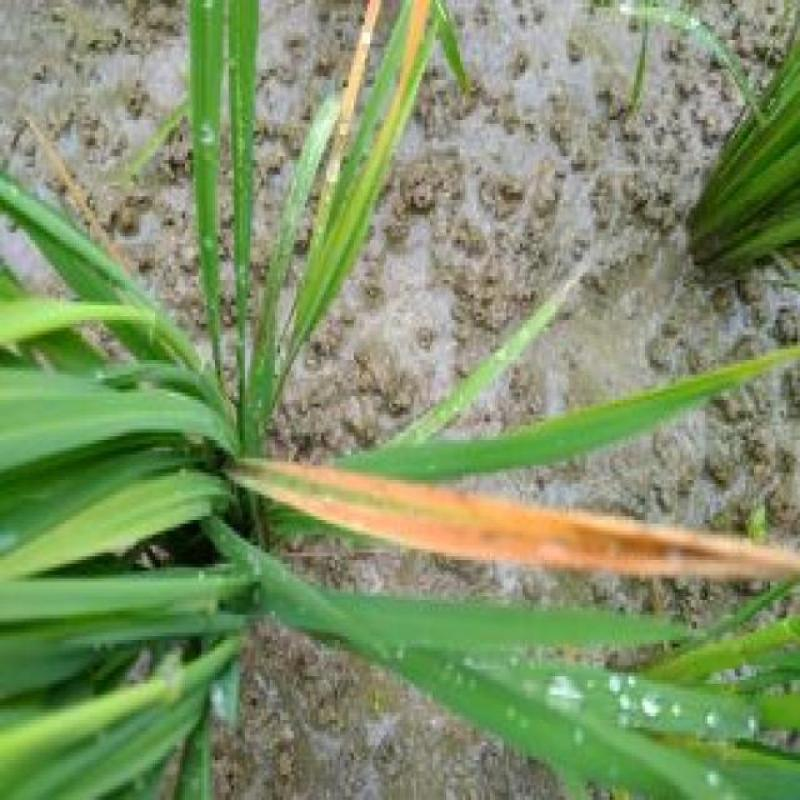Rice Tungro: (265, 446, 800, 588)
